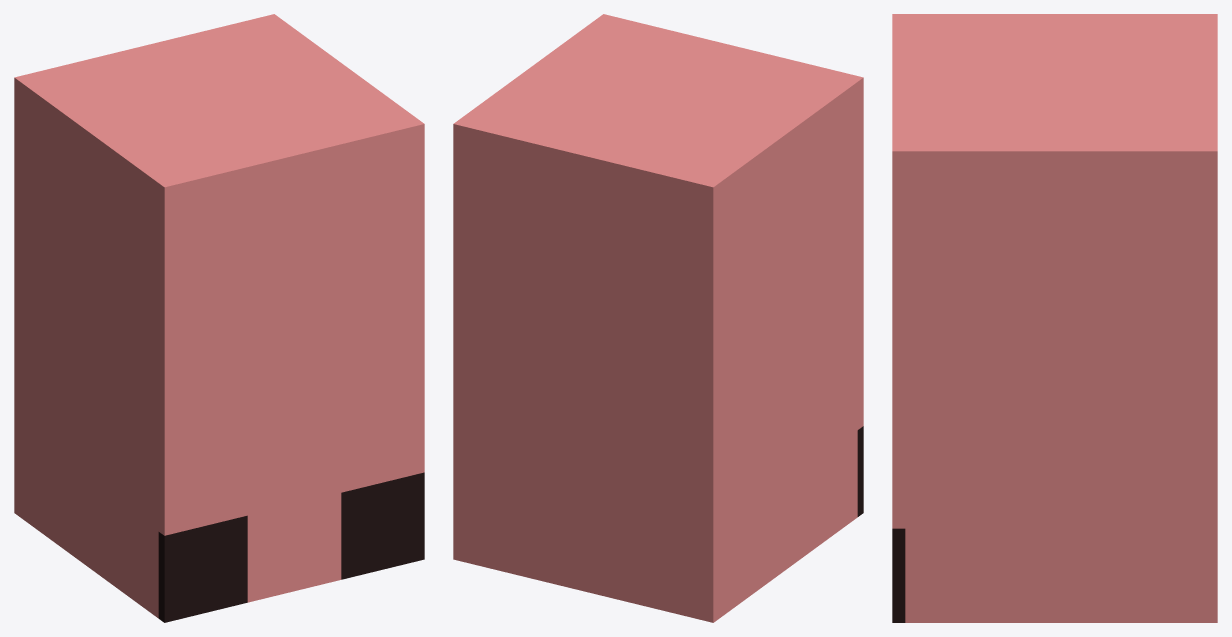
Rendered from pig-0.obj.
The picture shows the model from 3 angles, left to right: view 1: azimuth 30°, elevation 25°; view 2: azimuth 150°, elevation 25°; view 3: azimuth 270°, elevation 25°; orthographic projection. The views are drawn at different scales.
Size of the model in its own units: 2.5 by 4 by 2.5.
Materials: 1 (1 with a texture image).
